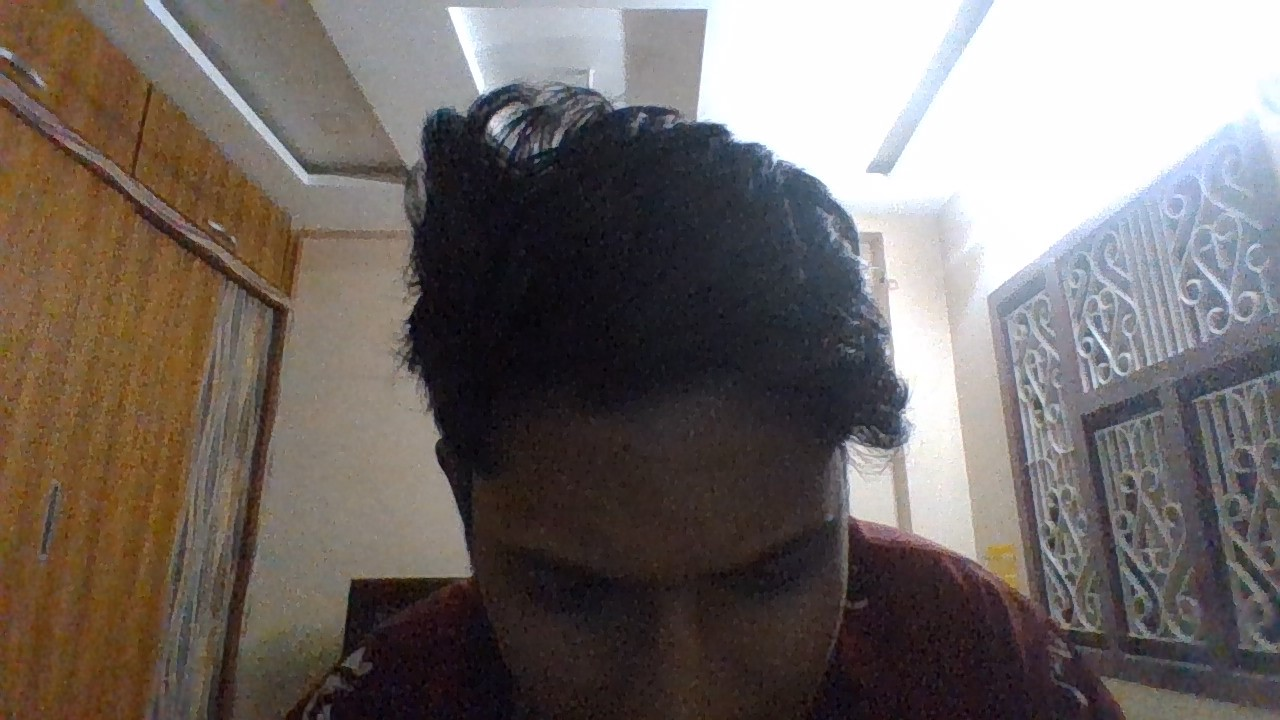person: (270, 68, 986, 720)
